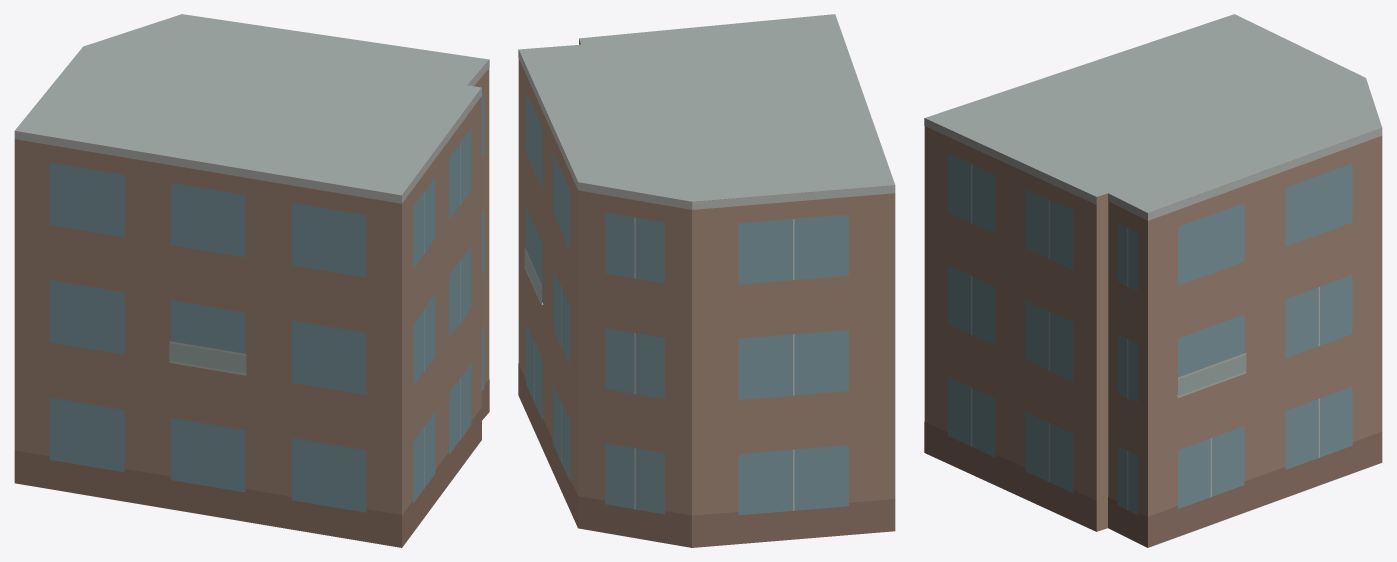
The model's file is survey-upis-32981238.glb.
The picture shows the model from 3 angles, left to right: view 1: azimuth 30°, elevation 25°; view 2: azimuth 150°, elevation 25°; view 3: azimuth 270°, elevation 25°; orthographic projection. The views are drawn at different scales.
Parts seen in each view (by area): view 1: survey-upis-32981238.tmp; view 2: survey-upis-32981238.tmp; view 3: survey-upis-32981238.tmp.
Boxes of the visible parts, box(x1,y1,x2,y2) form: survey-upis-32981238.tmp: box(14, 14, 489, 547); survey-upis-32981238.tmp: box(518, 14, 895, 547); survey-upis-32981238.tmp: box(924, 14, 1382, 547).
Size of the model in its own units: 13.13 by 10.3 by 12.77.
